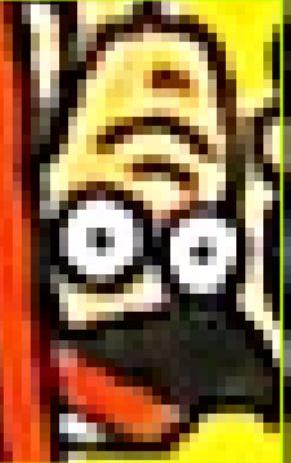waldos: (33, 0, 278, 453)
